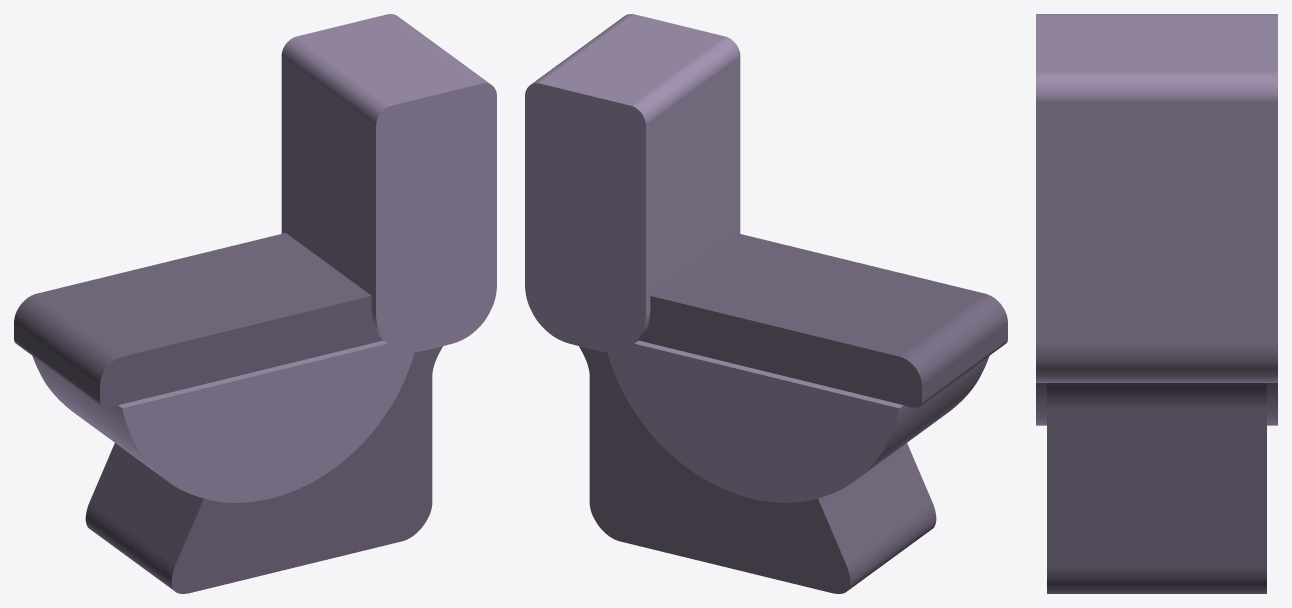
3 renders of one model, left to right at view 1: azimuth 30°, elevation 25°; view 2: azimuth 150°, elevation 25°; view 3: azimuth 270°, elevation 25°, orthographic. The views are drawn at different scales.
Visible parts, largest first — view 1: U+1F6BD_layer01_obj00, U+1F6BD_layer00_obj00; view 2: U+1F6BD_layer01_obj00, U+1F6BD_layer00_obj00; view 3: U+1F6BD_layer01_obj00, U+1F6BD_layer00_obj00.
Part boxes in pixels (box(x1,y1,x2,y2)): U+1F6BD_layer01_obj00: box(32, 14, 496, 502); U+1F6BD_layer00_obj00: box(14, 233, 442, 593); U+1F6BD_layer01_obj00: box(525, 14, 989, 502); U+1F6BD_layer00_obj00: box(579, 233, 1007, 593); U+1F6BD_layer01_obj00: box(1036, 14, 1277, 425); U+1F6BD_layer00_obj00: box(1047, 383, 1266, 593).
Bounding box in the file's own units: 0.5272 × 0.5677 × 0.22.
